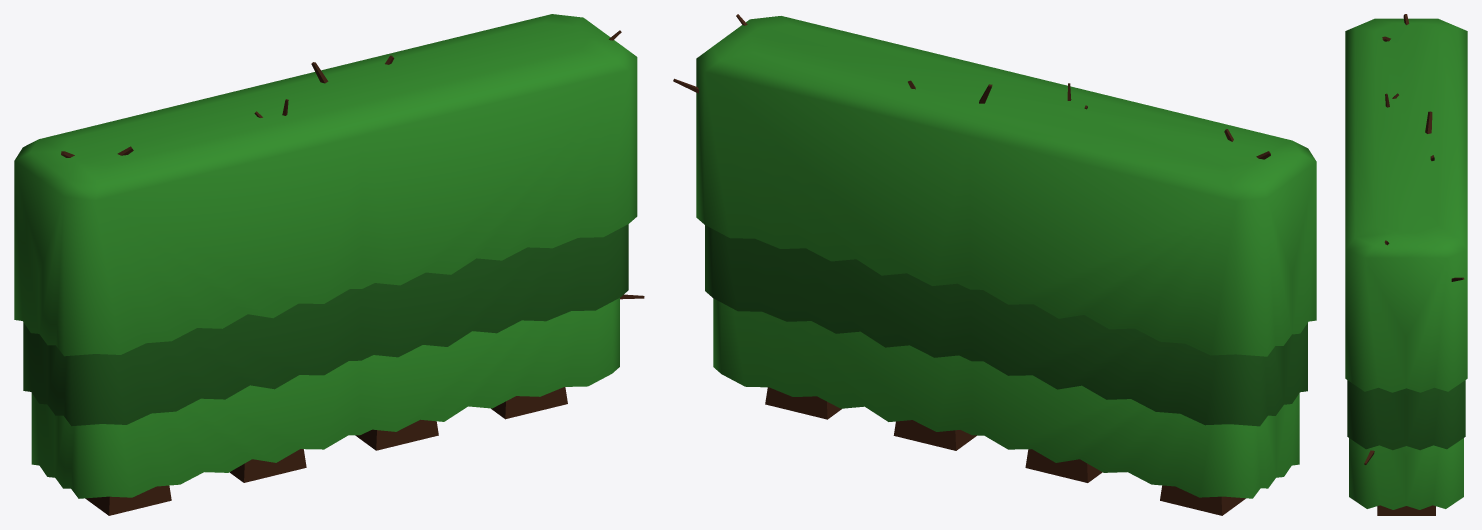
Rendered from Buxus_Export.FBX.
3 renders of one model, left to right at view 1: azimuth 30°, elevation 25°; view 2: azimuth 150°, elevation 25°; view 3: azimuth 270°, elevation 25°, orthographic. The views are drawn at different scales.
Parts seen in each view (by area): view 1: Buxus; view 2: Buxus; view 3: Buxus.
Part boxes in pixels (x1,y1,x2,y2): Buxus: (14, 14, 644, 515); Buxus: (673, 14, 1316, 515); Buxus: (1345, 14, 1467, 515).
Size of the model in its own units: 410 by 248 by 87.77.
